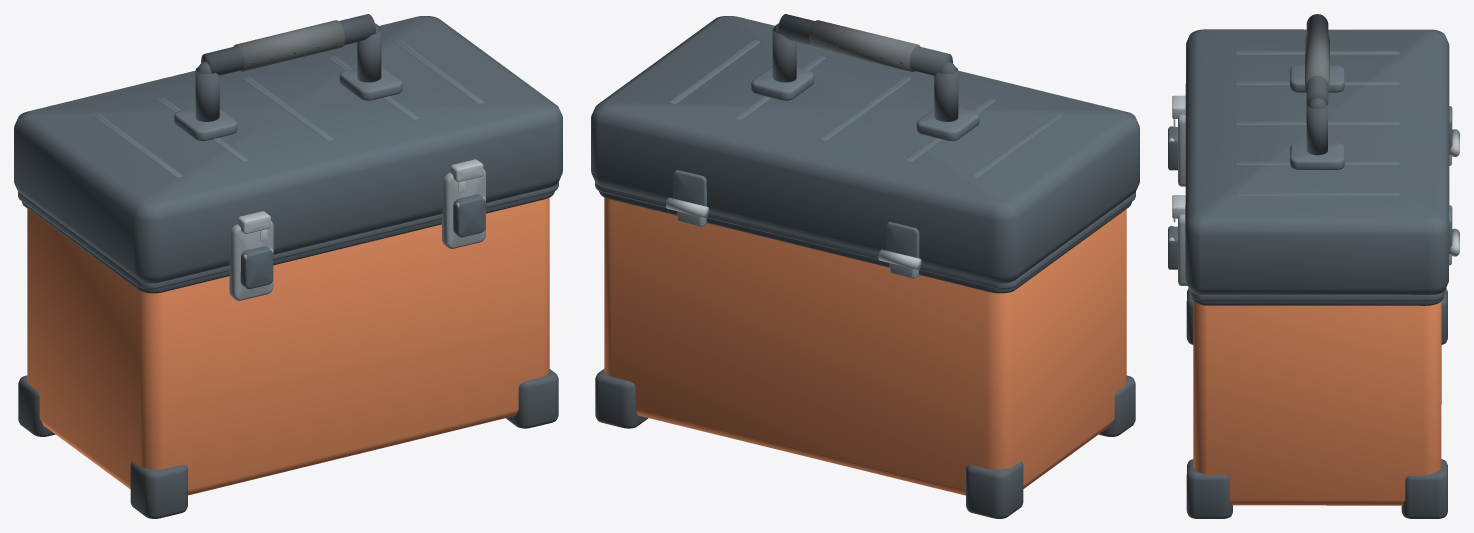
The model's file is CSE_Toolbox.fbx.
The picture shows the model from 3 angles, left to right: view 1: azimuth 30°, elevation 25°; view 2: azimuth 150°, elevation 25°; view 3: azimuth 270°, elevation 25°; orthographic projection. The views are drawn at different scales.
Parts seen in each view (by area): view 1: CSE_Toolbox::000_Pressed_Orange_Steel_Box, CSE_Toolbox::003_Stamped_Black_Hinged_Lid, CSE_Toolbox::035_Textured_Palm_Centre_Sleeve, CSE_Toolbox::004_Lid_Skirt_Continuous_Lip, CSE_Toolbox::017_Rubber_Corner_Protector_LF, CSE_Toolbox::002_Gasket_Perimeter_And_Metal_Crimps, CSE_Toolbox::026_Rubber_Corner_Protector_RF, CSE_Toolbox::019_Stamped_Steel_Front_Latch_Plate_R, CSE_Toolbox::010_Stamped_Steel_Front_Latch_Plate_L, CSE_Toolbox::034_Handle_Continuous_Upper_Grip, CSE_Toolbox::028_Handle_Raised_Base_L, CSE_Toolbox::031_Handle_Raised_Base_R (+8 smaller); view 2: CSE_Toolbox::000_Pressed_Orange_Steel_Box, CSE_Toolbox::003_Stamped_Black_Hinged_Lid, CSE_Toolbox::035_Textured_Palm_Centre_Sleeve, CSE_Toolbox::004_Lid_Skirt_Continuous_Lip, CSE_Toolbox::018_Rubber_Corner_Protector_LB, CSE_Toolbox::002_Gasket_Perimeter_And_Metal_Crimps, CSE_Toolbox::027_Rubber_Corner_Protector_RB, CSE_Toolbox::034_Handle_Continuous_Upper_Grip, CSE_Toolbox::028_Handle_Raised_Base_L, CSE_Toolbox::031_Handle_Raised_Base_R, CSE_Toolbox::029_Handle_Downpost_L, CSE_Toolbox::017_Rubber_Corner_Protector_LF (+6 smaller); view 3: CSE_Toolbox::003_Stamped_Black_Hinged_Lid, CSE_Toolbox::000_Pressed_Orange_Steel_Box, CSE_Toolbox::026_Rubber_Corner_Protector_RF, CSE_Toolbox::027_Rubber_Corner_Protector_RB, CSE_Toolbox::004_Lid_Skirt_Continuous_Lip, CSE_Toolbox::035_Textured_Palm_Centre_Sleeve, CSE_Toolbox::031_Handle_Raised_Base_R, CSE_Toolbox::002_Gasket_Perimeter_And_Metal_Crimps, CSE_Toolbox::032_Handle_Downpost_R, CSE_Toolbox::034_Handle_Continuous_Upper_Grip, CSE_Toolbox::028_Handle_Raised_Base_L, CSE_Toolbox::007_Pressed_Lid_Crease_+0.000 (+10 smaller).
Part boxes in pixels (x1=…): CSE_Toolbox::000_Pressed_Orange_Steel_Box: x1=27, y1=197, x2=549, y2=495; CSE_Toolbox::003_Stamped_Black_Hinged_Lid: x1=14, y1=16, x2=562, y2=283; CSE_Toolbox::035_Textured_Palm_Centre_Sleeve: x1=233, y1=20, x2=344, y2=71; CSE_Toolbox::004_Lid_Skirt_Continuous_Lip: x1=18, y1=182, x2=558, y2=289; CSE_Toolbox::017_Rubber_Corner_Protector_LF: x1=130, y1=461, x2=187, y2=518; CSE_Toolbox::002_Gasket_Perimeter_And_Metal_Crimps: x1=21, y1=191, x2=554, y2=293; CSE_Toolbox::026_Rubber_Corner_Protector_RF: x1=506, y1=369, x2=558, y2=428; CSE_Toolbox::019_Stamped_Steel_Front_Latch_Plate_R: x1=442, y1=169, x2=485, y2=248; CSE_Toolbox::010_Stamped_Steel_Front_Latch_Plate_L: x1=229, y1=221, x2=273, y2=300; CSE_Toolbox::034_Handle_Continuous_Upper_Grip: x1=201, y1=14, x2=375, y2=75; CSE_Toolbox::028_Handle_Raised_Base_L: x1=174, y1=107, x2=237, y2=140; CSE_Toolbox::031_Handle_Raised_Base_R: x1=339, y1=66, x2=402, y2=100; CSE_Toolbox::000_Pressed_Orange_Steel_Box: x1=604, y1=197, x2=1126, y2=495; CSE_Toolbox::003_Stamped_Black_Hinged_Lid: x1=591, y1=16, x2=1139, y2=283; CSE_Toolbox::035_Textured_Palm_Centre_Sleeve: x1=809, y1=20, x2=920, y2=71; CSE_Toolbox::004_Lid_Skirt_Continuous_Lip: x1=595, y1=182, x2=1135, y2=289; CSE_Toolbox::018_Rubber_Corner_Protector_LB: x1=966, y1=461, x2=1023, y2=518; CSE_Toolbox::002_Gasket_Perimeter_And_Metal_Crimps: x1=599, y1=191, x2=1131, y2=293; CSE_Toolbox::027_Rubber_Corner_Protector_RB: x1=595, y1=369, x2=648, y2=428; CSE_Toolbox::034_Handle_Continuous_Upper_Grip: x1=778, y1=14, x2=952, y2=75; CSE_Toolbox::028_Handle_Raised_Base_L: x1=916, y1=107, x2=979, y2=140; CSE_Toolbox::031_Handle_Raised_Base_R: x1=751, y1=66, x2=814, y2=100; CSE_Toolbox::029_Handle_Downpost_L: x1=934, y1=67, x2=958, y2=121; CSE_Toolbox::017_Rubber_Corner_Protector_LF: x1=1099, y1=375, x2=1135, y2=436; CSE_Toolbox::003_Stamped_Black_Hinged_Lid: x1=1185, y1=29, x2=1449, y2=294; CSE_Toolbox::000_Pressed_Orange_Steel_Box: x1=1193, y1=301, x2=1441, y2=505; CSE_Toolbox::026_Rubber_Corner_Protector_RF: x1=1186, y1=459, x2=1232, y2=518; CSE_Toolbox::027_Rubber_Corner_Protector_RB: x1=1401, y1=459, x2=1447, y2=518; CSE_Toolbox::004_Lid_Skirt_Continuous_Lip: x1=1190, y1=291, x2=1444, y2=301; CSE_Toolbox::035_Textured_Palm_Centre_Sleeve: x1=1305, y1=27, x2=1329, y2=91; CSE_Toolbox::031_Handle_Raised_Base_R: x1=1290, y1=142, x2=1344, y2=169; CSE_Toolbox::002_Gasket_Perimeter_And_Metal_Crimps: x1=1191, y1=296, x2=1443, y2=305; CSE_Toolbox::032_Handle_Downpost_R: x1=1306, y1=105, x2=1327, y2=155; CSE_Toolbox::034_Handle_Continuous_Upper_Grip: x1=1306, y1=14, x2=1328, y2=105; CSE_Toolbox::028_Handle_Raised_Base_L: x1=1290, y1=65, x2=1344, y2=92; CSE_Toolbox::007_Pressed_Lid_Crease_+0.000: x1=1235, y1=121, x2=1399, y2=125.
Bounding box in the file's own units: 0.47 × 0.41 × 0.29.
